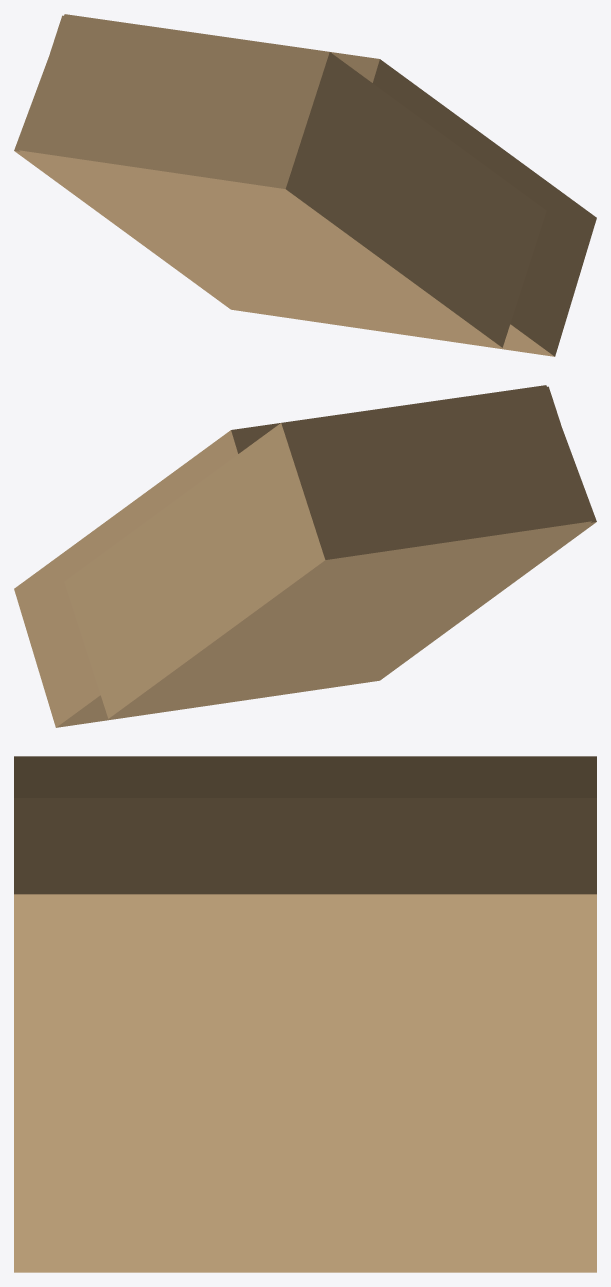
3 renders of one model, top to bottom at view 1: azimuth 30°, elevation 25°; view 2: azimuth 150°, elevation 25°; view 3: azimuth 270°, elevation 25°, orthographic. The views are drawn at different scales.
Visible parts, largest first — view 1: 0_0_1_3_1_2_1_3_2; view 2: 0_0_1_3_1_2_1_3_2; view 3: 0_0_1_3_1_2_1_3_2.
Part boxes in pixels (x1,y1,x2,y2): 0_0_1_3_1_2_1_3_2: [14, 14, 596, 356]; 0_0_1_3_1_2_1_3_2: [14, 385, 596, 727]; 0_0_1_3_1_2_1_3_2: [14, 756, 596, 1272].
Size of the model in its own units: 23.37 by 15.3 by 24.
